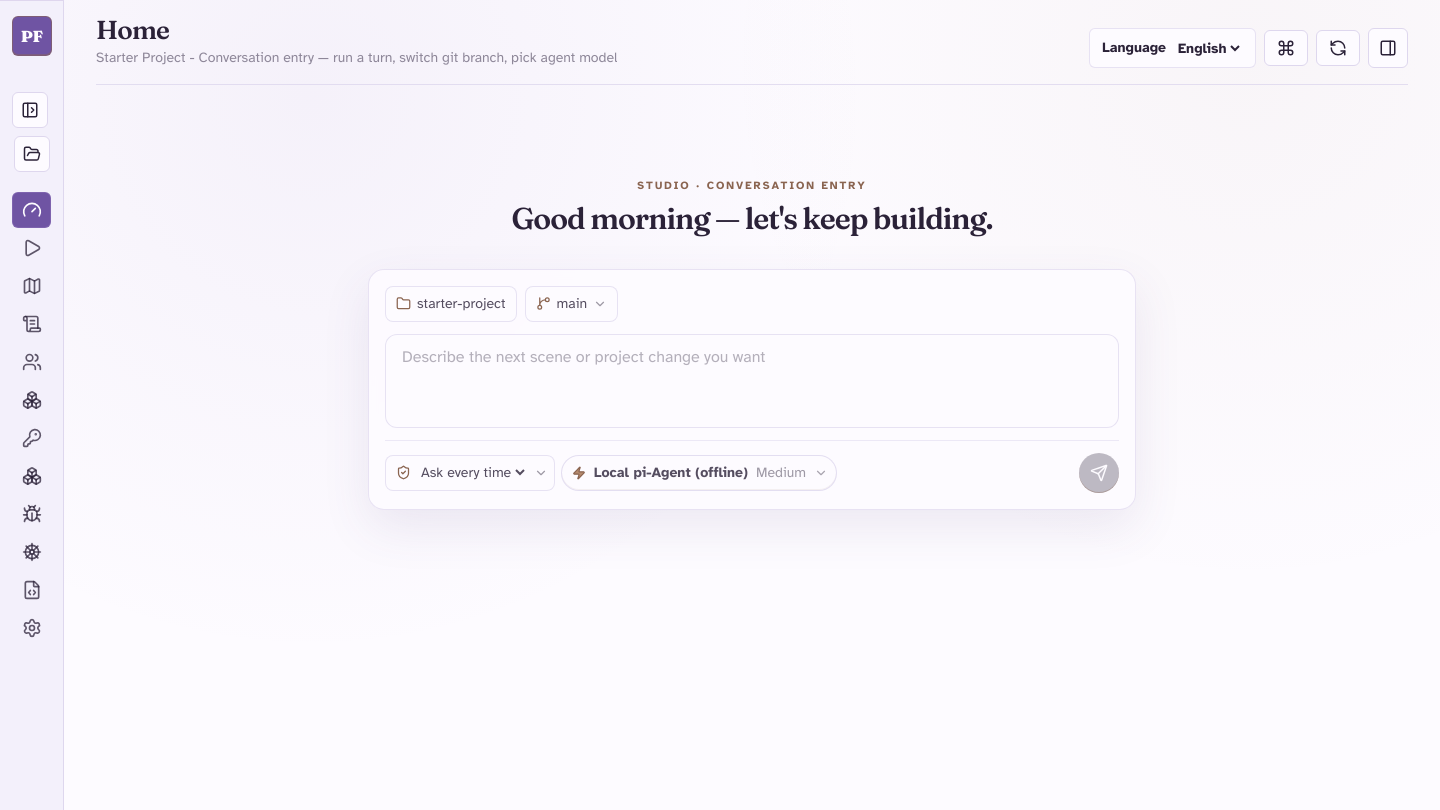
Test: App › switches Studio chrome between English and Chinese
Expected: the element labelled "starter-project" is shown, [385,286,516,322]
Click the button named "Source".
click(32, 590)  # box [12,572,51,608]
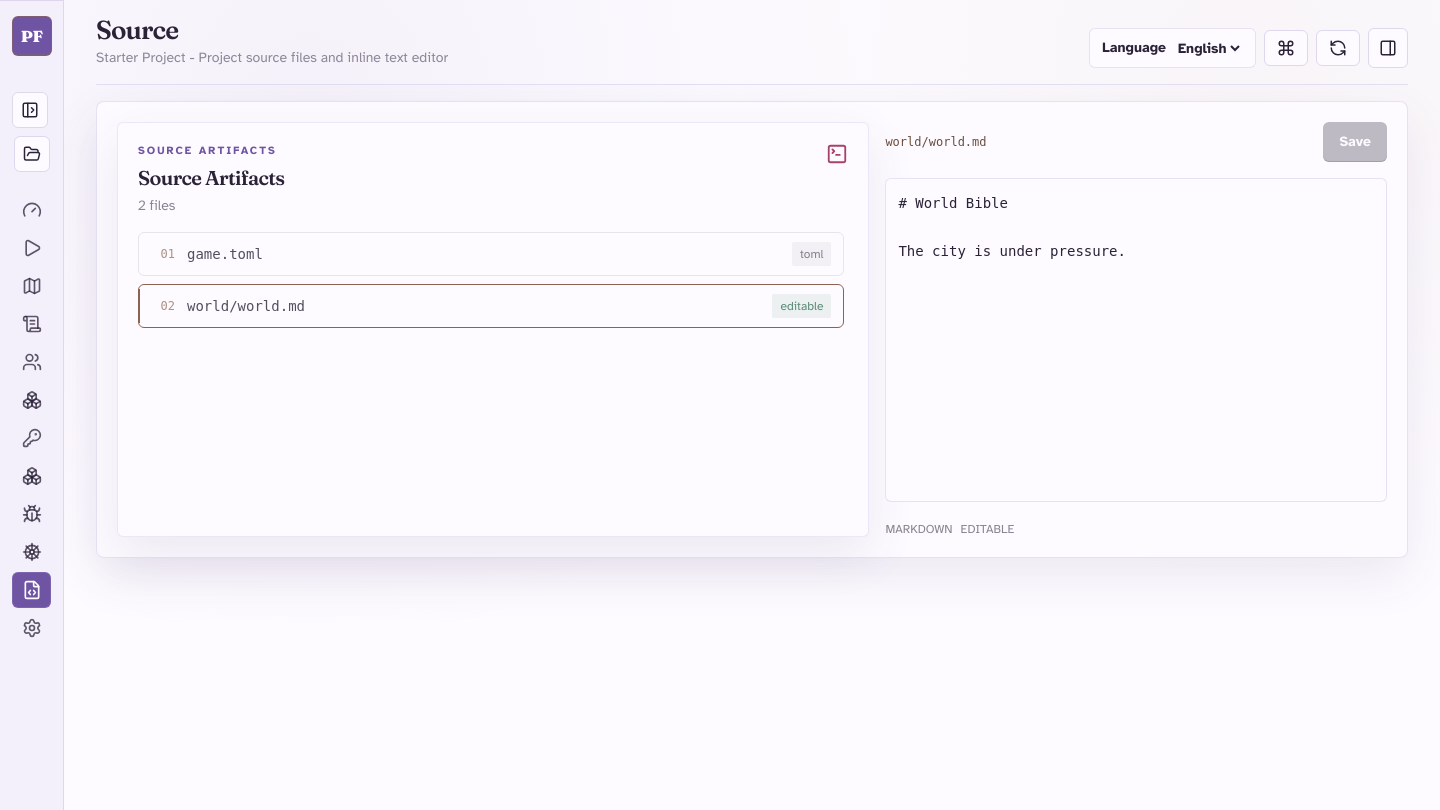
Select "中文" in the dropdown labelled "Language" at (1208, 48), box [1174,38,1243,58]
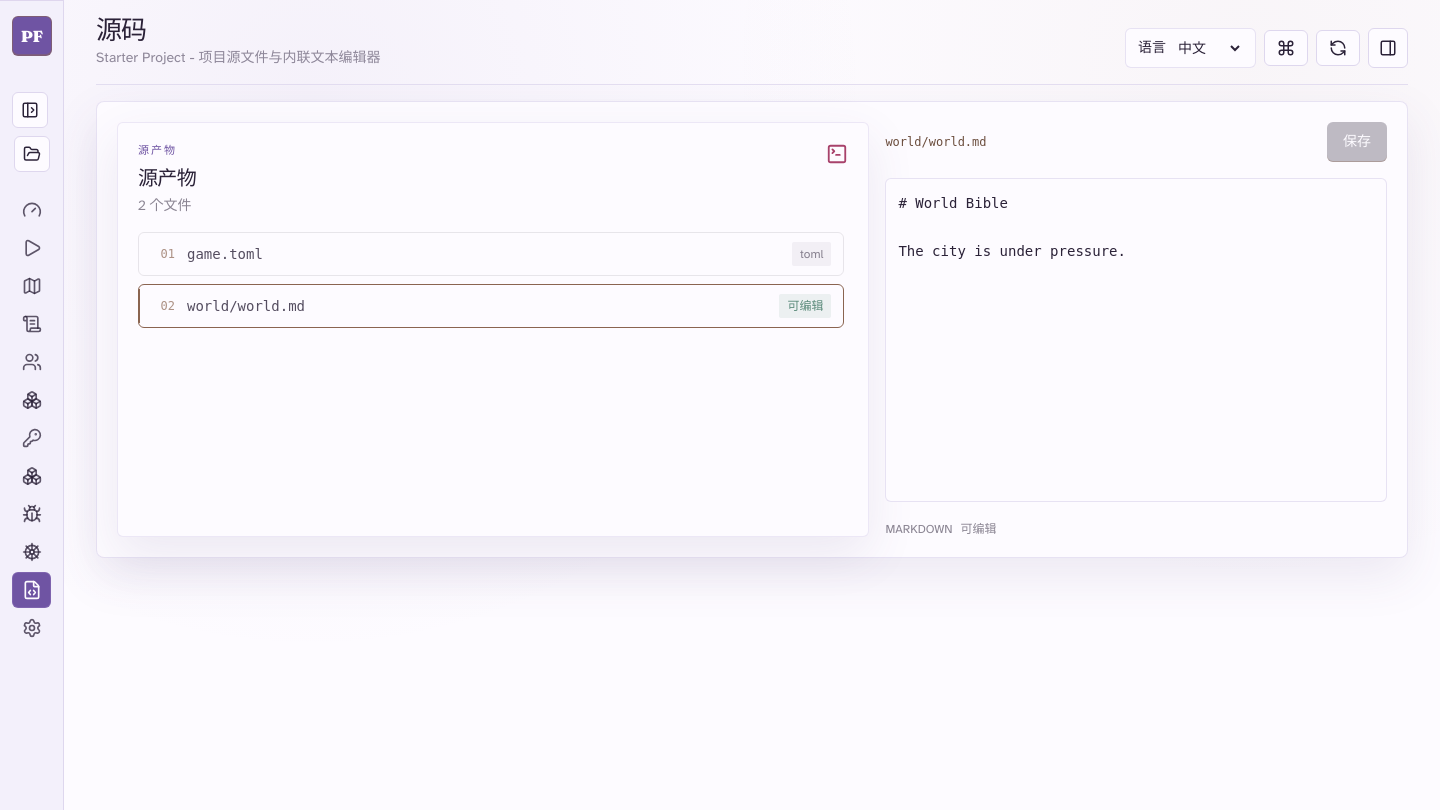
Expected: the button named "首页" is shown, [12,192,51,228]
Click the button named "追踪".
click(32, 514)  # box [12,496,51,532]
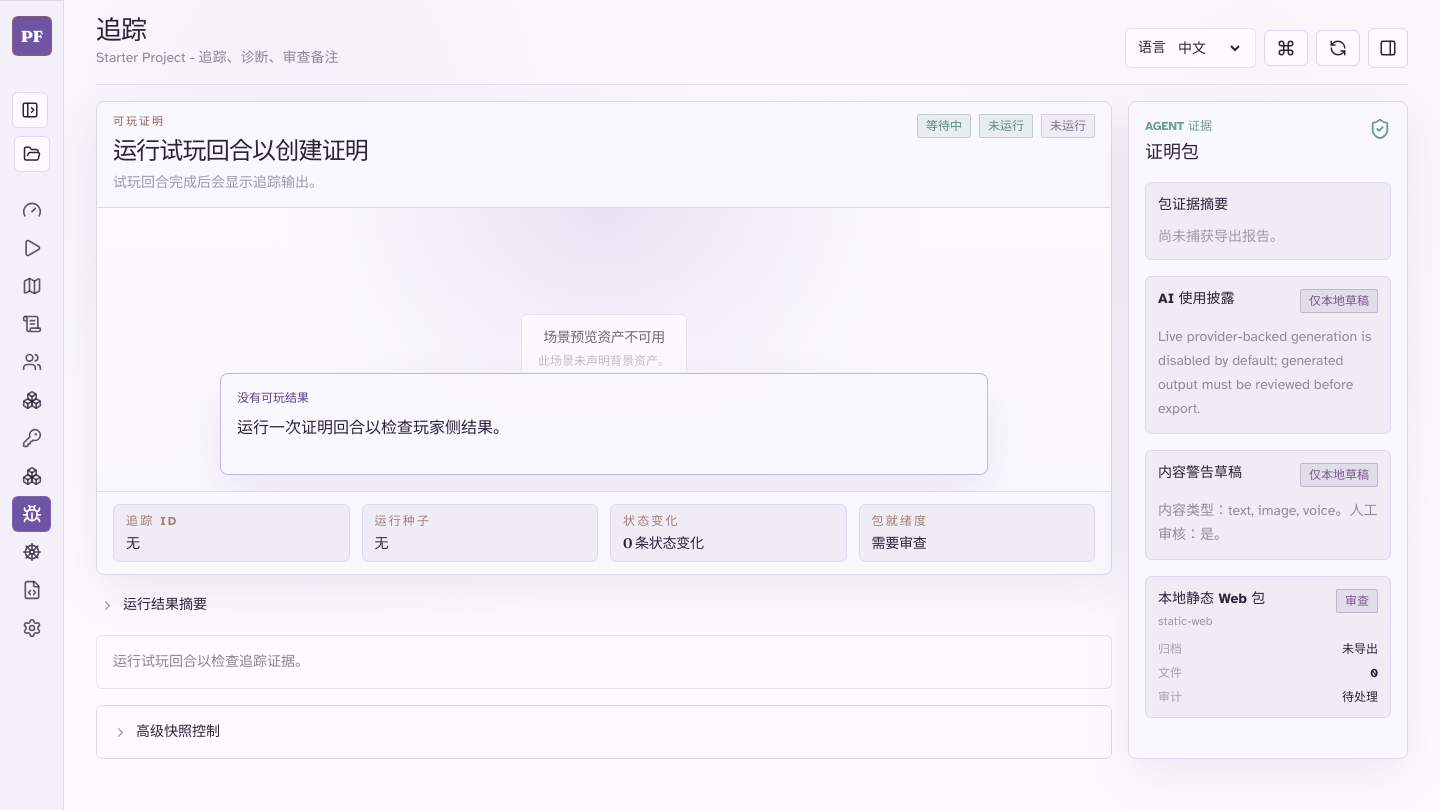
Now the heading "运行试玩回合以创建证明" is shown, box [113,134,368,166]
Select "English" in the dropdown labelled "语言" at (1208, 48), box [1174,38,1243,58]
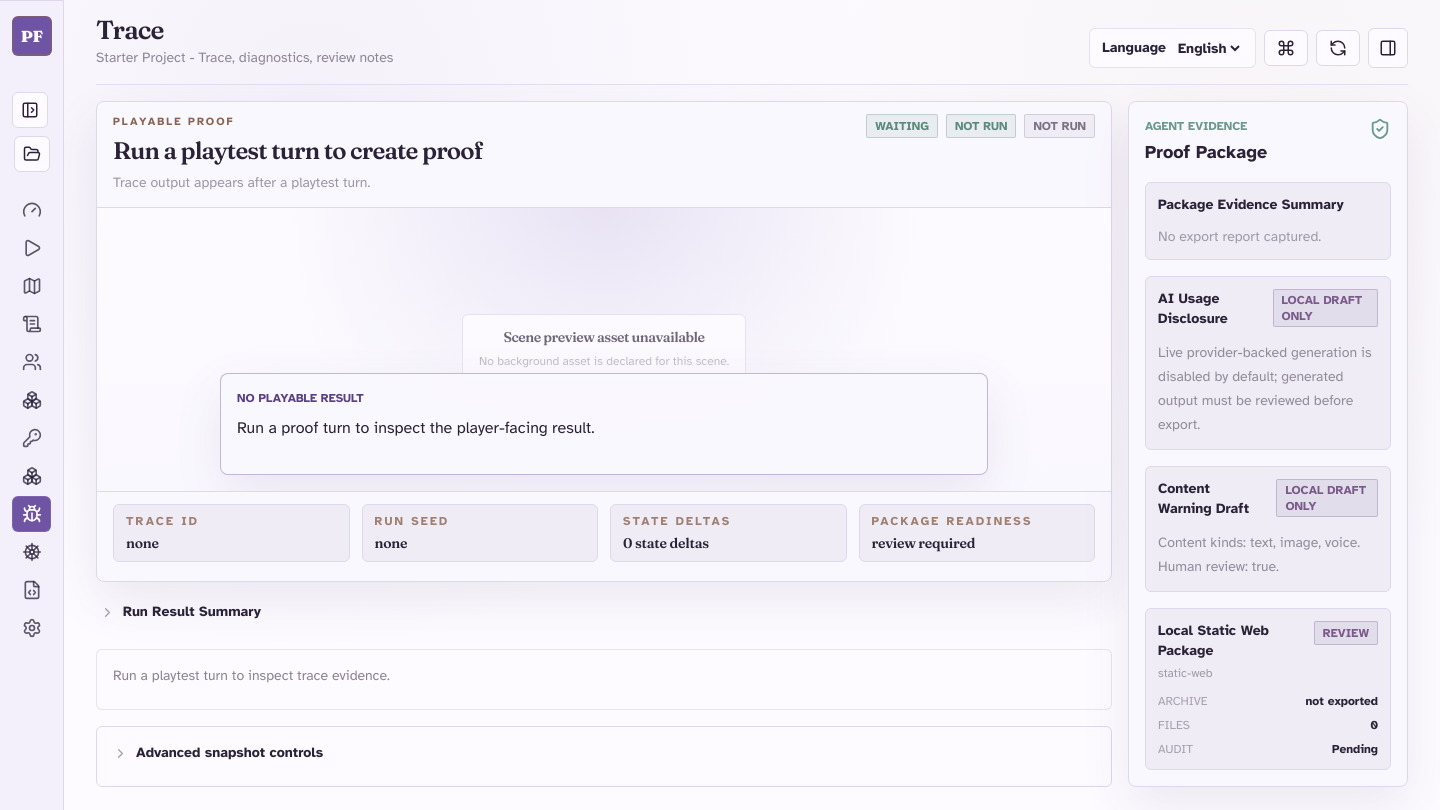
Expected: the button named "Trace" is shown, [12,496,51,532]
Now the heading "追踪" is gone
